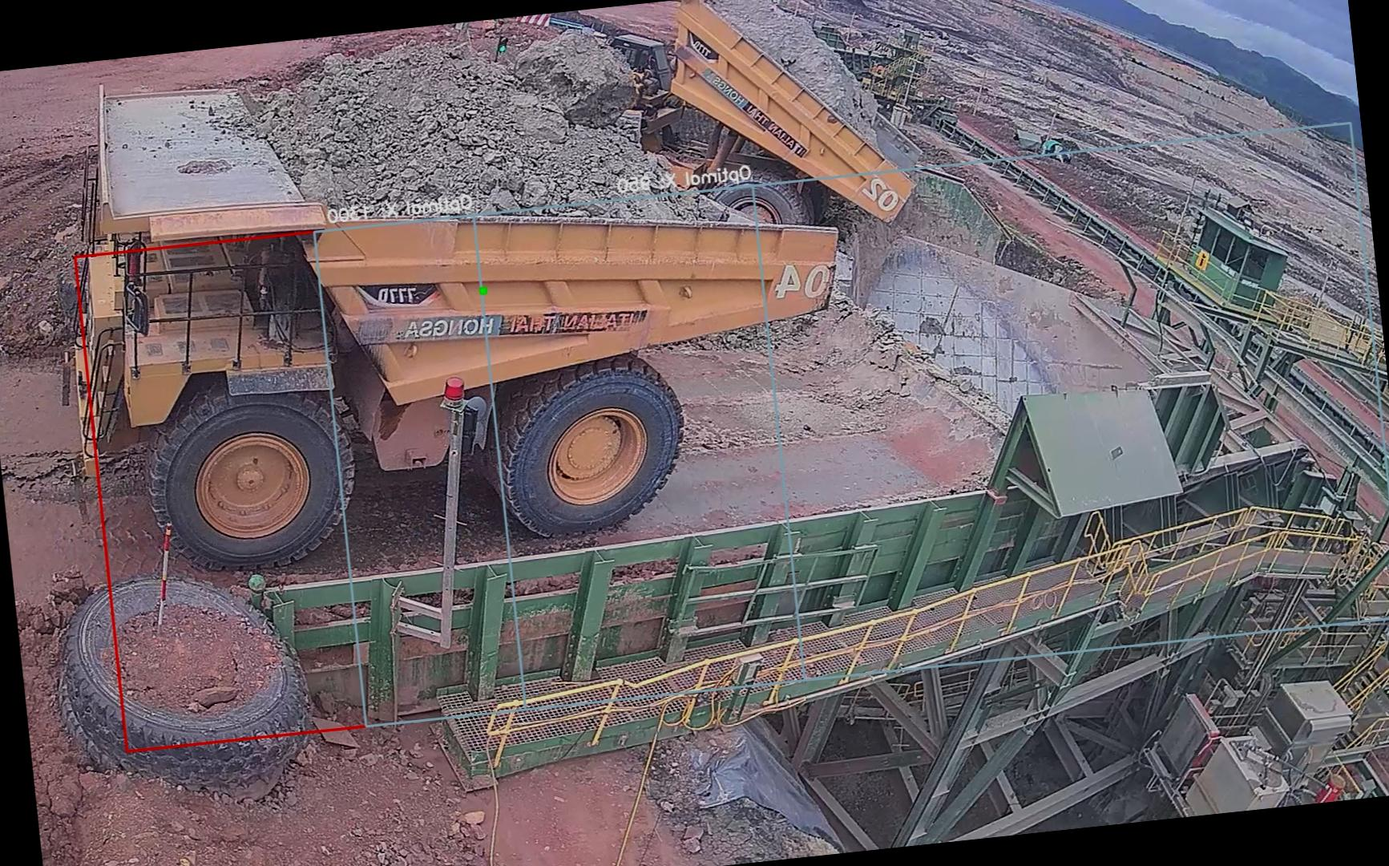company: (392, 281, 670, 365)
full_load: (256, 19, 668, 267)
mining_truck: (18, 0, 878, 593)
tail_number: (763, 248, 839, 317)
truck_size: (349, 269, 442, 317)
